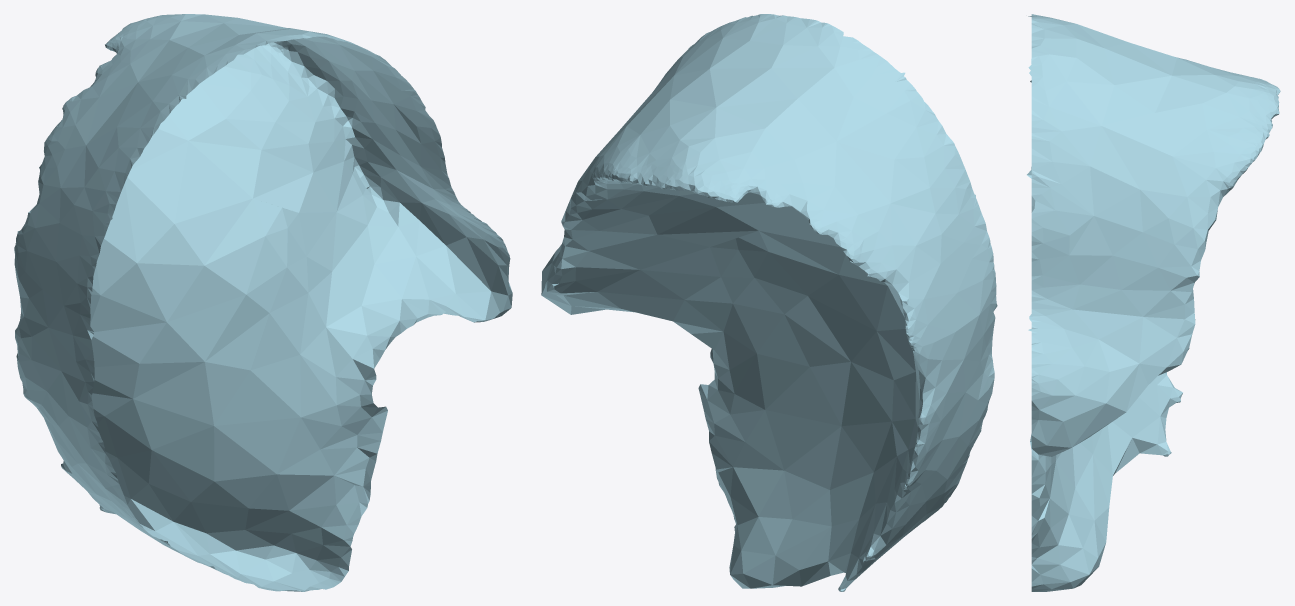
Rendered from rightlung.obj.
3 renders of one model, left to right at view 1: azimuth 30°, elevation 25°; view 2: azimuth 150°, elevation 25°; view 3: azimuth 270°, elevation 25°, orthographic. The views are drawn at different scales.
Parts seen in each view (by area): view 1: grp1; view 2: grp1; view 3: grp1.
Boxes of the visible parts, <box> form: grp1: <box>14,14,512,591</box>; grp1: <box>541,14,997,591</box>; grp1: <box>1027,14,1280,591</box>.
Bounding box in the file's own units: 133 × 165 × 70.68.
